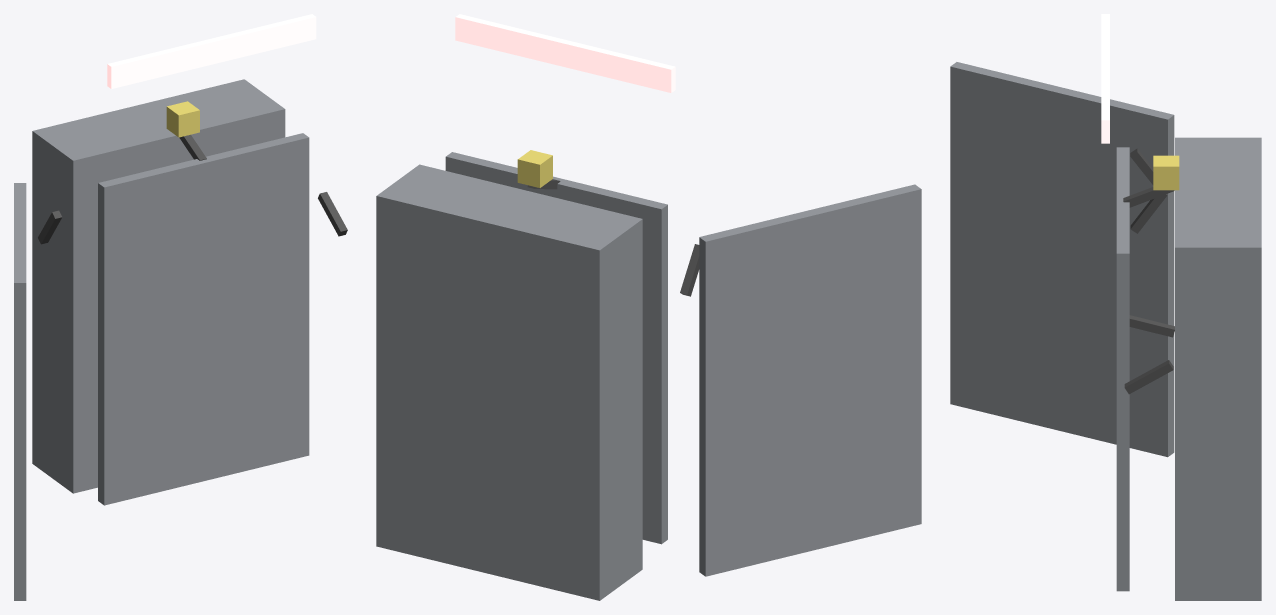
Rendered from ElectricalPanel_Spark.fbx.
3 views of the same model, side by side, from view 1: azimuth 30°, elevation 25°; view 2: azimuth 150°, elevation 25°; view 3: azimuth 270°, elevation 25° (orthographic). The views are drawn at different scales.
Parts seen in each view (by area): view 1: ElectricalPanel_Spark_Pre, ElectricalPanel_Spark_Post, ElectricalPanel_SparkPoint; view 2: ElectricalPanel_Spark_Post, ElectricalPanel_Spark_Pre, ElectricalPanel_SparkPoint; view 3: ElectricalPanel_Spark_Post, ElectricalPanel_Spark_Pre, ElectricalPanel_SparkPoint.
Part boxes in pixels (x1,y1,x2,y2): ElectricalPanel_Spark_Pre: (98, 133, 309, 505); ElectricalPanel_Spark_Post: (14, 14, 347, 600); ElectricalPanel_SparkPoint: (166, 101, 199, 137); ElectricalPanel_Spark_Post: (376, 14, 921, 600); ElectricalPanel_Spark_Pre: (445, 152, 667, 544); ElectricalPanel_SparkPoint: (517, 150, 552, 187); ElectricalPanel_Spark_Post: (950, 14, 1261, 600); ElectricalPanel_Spark_Pre: (1116, 147, 1129, 591); ElectricalPanel_SparkPoint: (1153, 155, 1179, 190).
Bounding box in the file's own units: 58.4 × 61 × 35.93.
